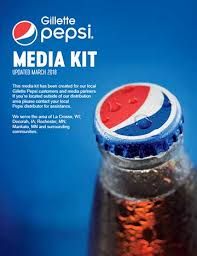pepsi: (101, 90, 179, 136)
